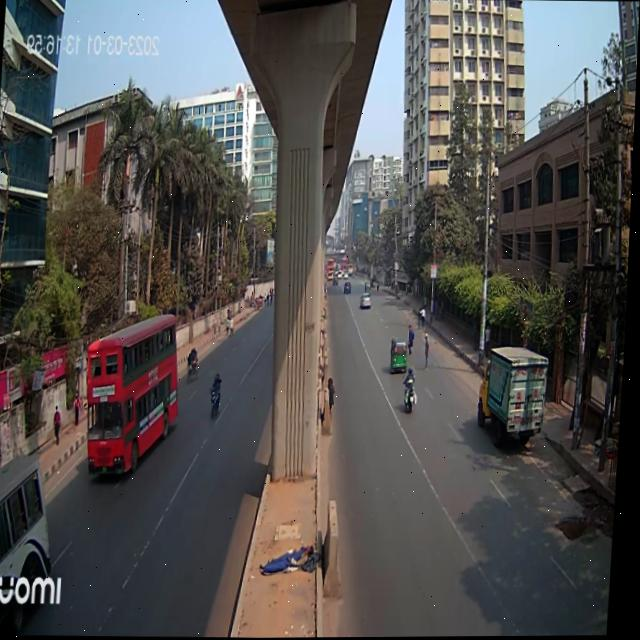cng: (391, 334, 414, 376)
rikshaw: (187, 343, 205, 388)
